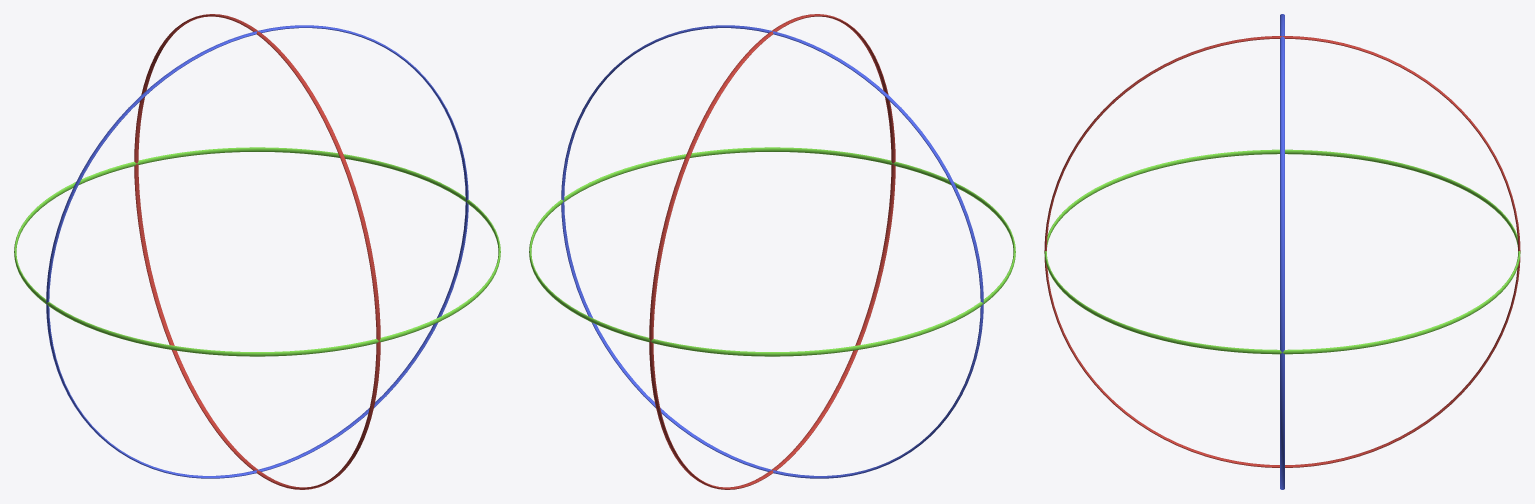
File: RotationGizmos.fbx
3 renders of one model, left to right at view 1: azimuth 30°, elevation 25°; view 2: azimuth 150°, elevation 25°; view 3: azimuth 270°, elevation 25°, orthographic. The views are drawn at different scales.
Visible parts, largest first — view 1: ZAxis, XAxis, YAxis; view 2: ZAxis, XAxis, YAxis; view 3: ZAxis, XAxis, YAxis.
Boxes of the visible parts, box(x1,y1,x2,y2) form: ZAxis: box(14, 147, 500, 356); XAxis: box(134, 14, 380, 489); YAxis: box(46, 25, 468, 478); ZAxis: box(529, 147, 1015, 356); XAxis: box(649, 14, 895, 489); YAxis: box(561, 25, 983, 478); ZAxis: box(1044, 149, 1520, 354); XAxis: box(1044, 36, 1520, 467); YAxis: box(1280, 14, 1284, 489).
Bounding box in the file's own units: 2.01 × 2.01 × 2.01.
